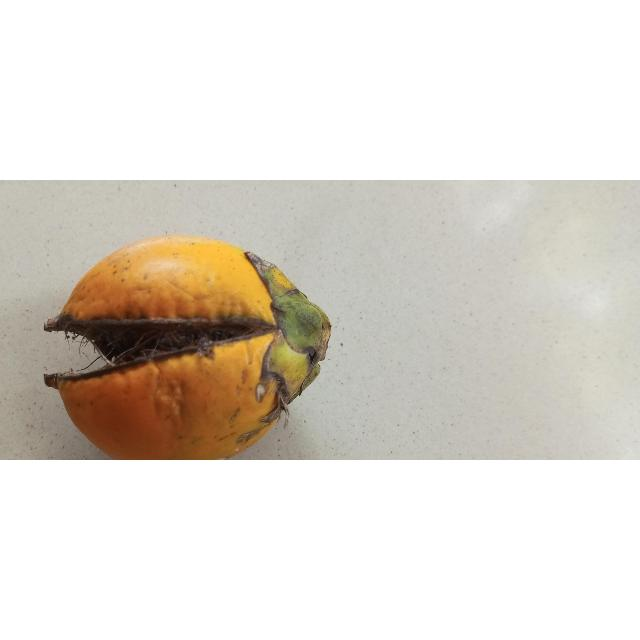damaged: (45, 235, 333, 461)
